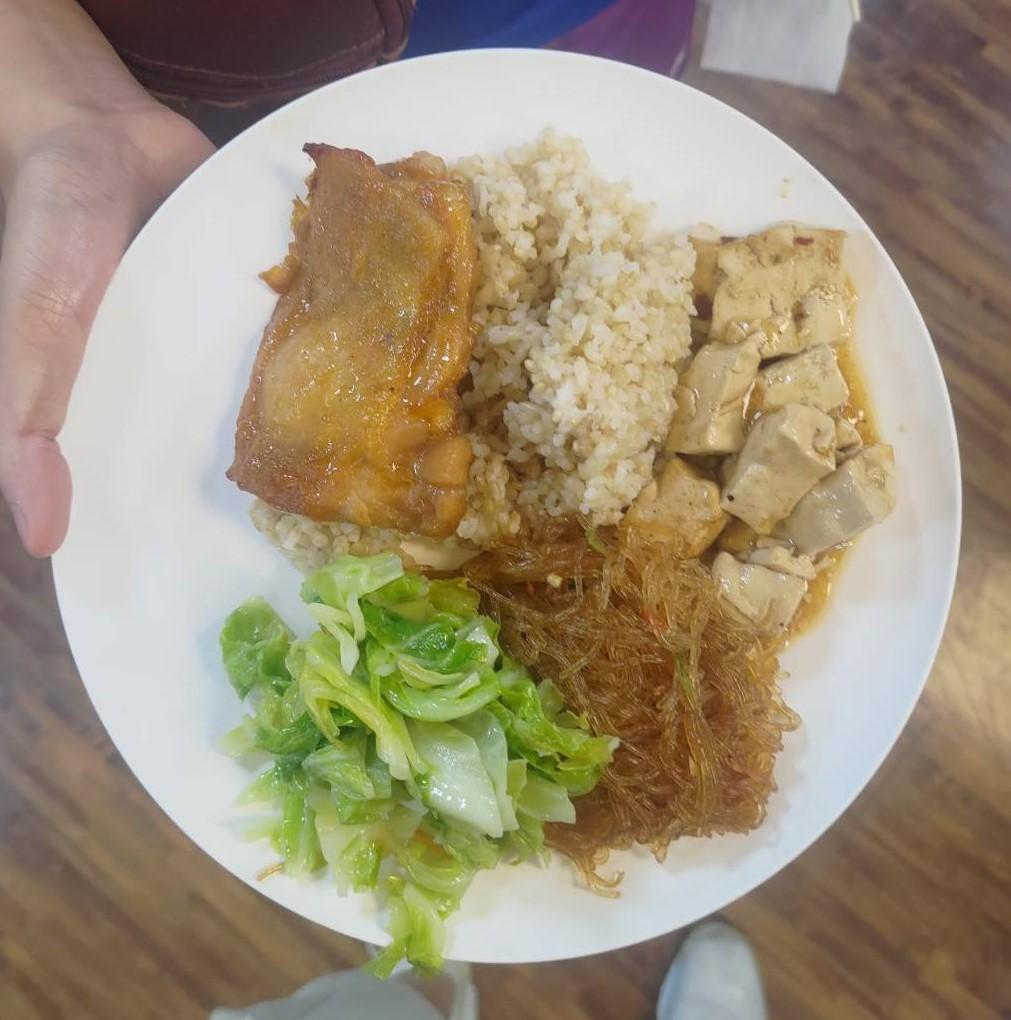big fried chicken leg: (36, 38, 979, 966)
box: (467, 133, 693, 544)
braised fish fillet: (225, 563, 575, 940), (639, 209, 896, 632), (465, 524, 789, 857)
braised pork: (215, 133, 491, 546)
